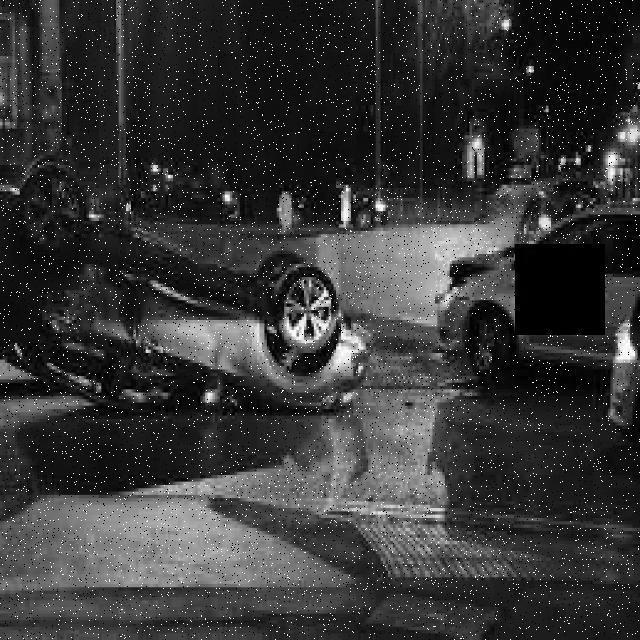accident: (0, 162, 378, 423)
vehicle: (435, 202, 639, 368), (263, 168, 389, 236), (126, 165, 238, 225), (518, 181, 612, 241)
